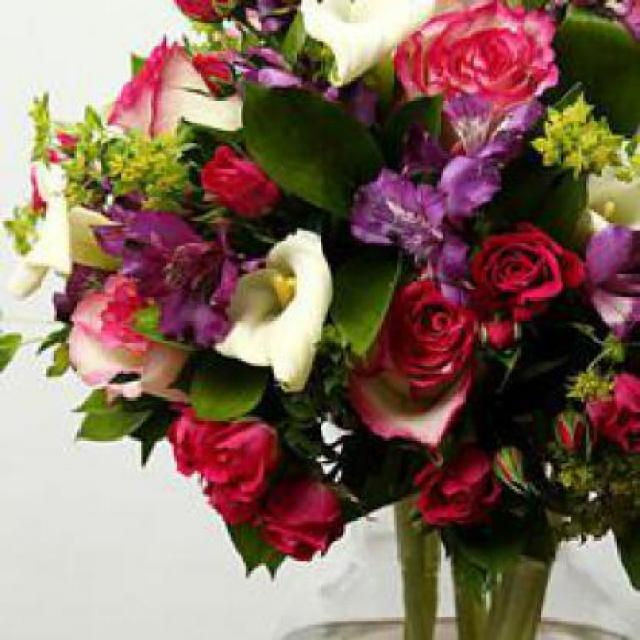Flower: (346, 269, 477, 446), (95, 200, 236, 346), (213, 230, 333, 392), (395, 2, 561, 113), (448, 223, 586, 351), (70, 274, 193, 400), (349, 166, 446, 259), (254, 479, 343, 563), (415, 452, 499, 528), (204, 417, 279, 501), (199, 143, 279, 220), (169, 409, 218, 477)
